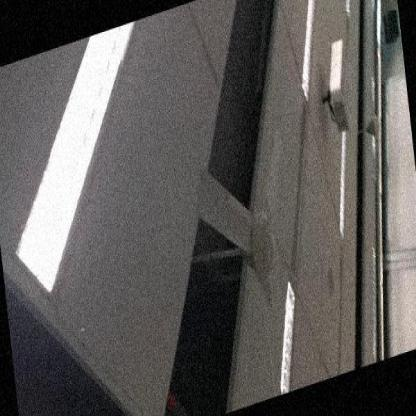light_on: (0, 20, 165, 316), (257, 258, 322, 399), (281, 0, 334, 106), (323, 119, 366, 246), (335, 0, 364, 24)
